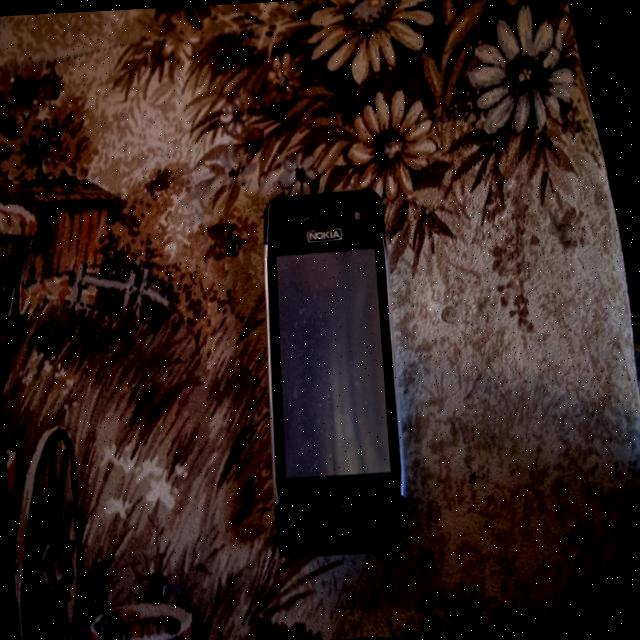Phone: (256, 186, 408, 560)
